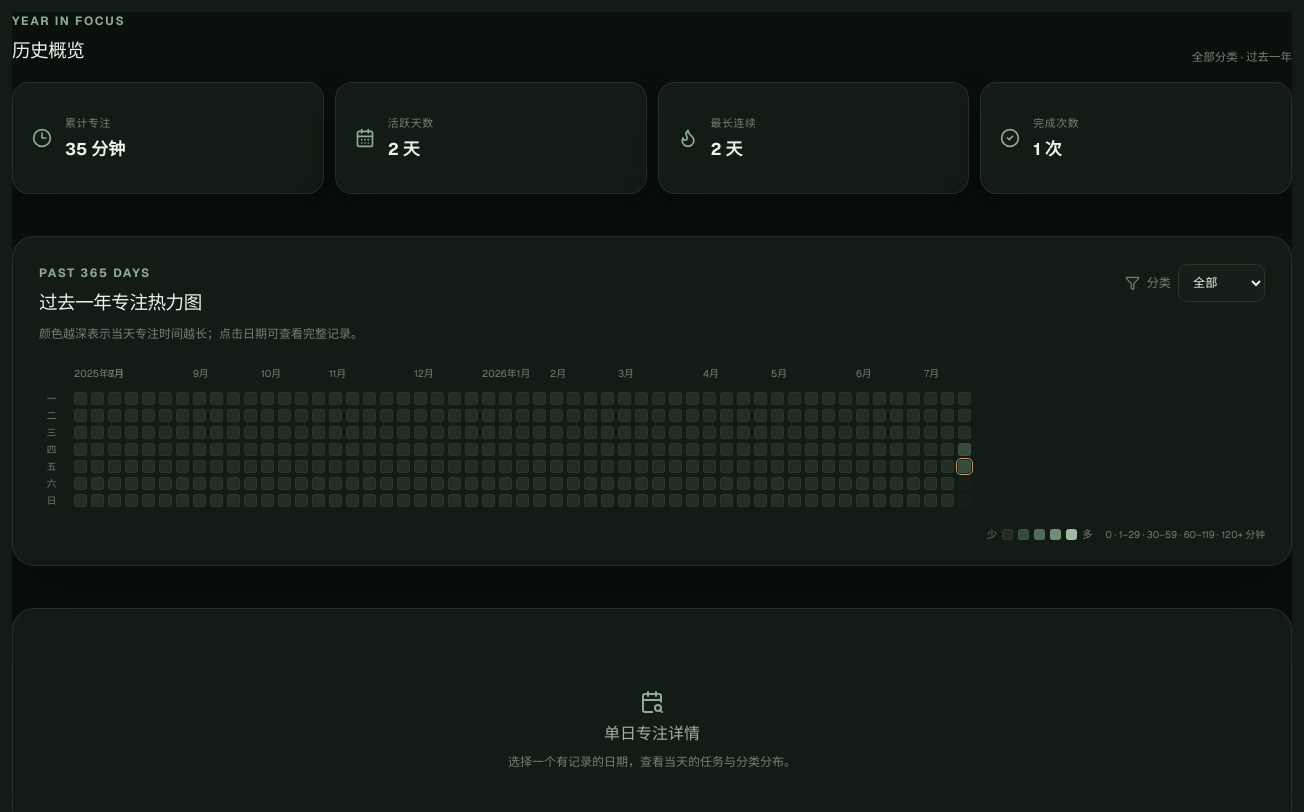
HistoryDashboard › shares category filtering across overview, heatmap, details and list
Select "项目" in the dropdown named "历史分类" at [1222, 283], box [1178,264,1265,302]
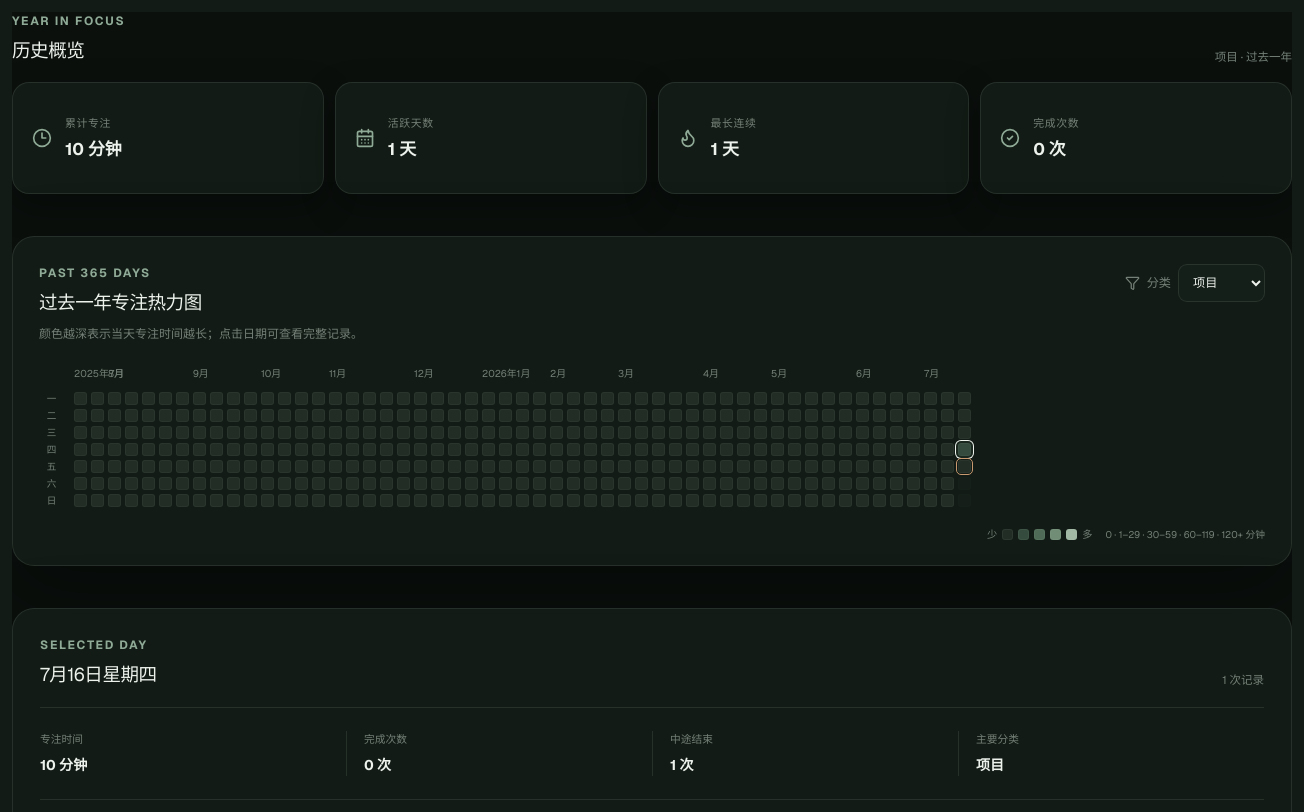
Expected: the 3rd heading is shown, [40,661,157,688]
Expected: the text "10 分钟" below "累计专注" is shown, [65,138,122,160]
Expected: the text "0 次" below "· 过去一年" is shown, [1033,138,1066,160]
